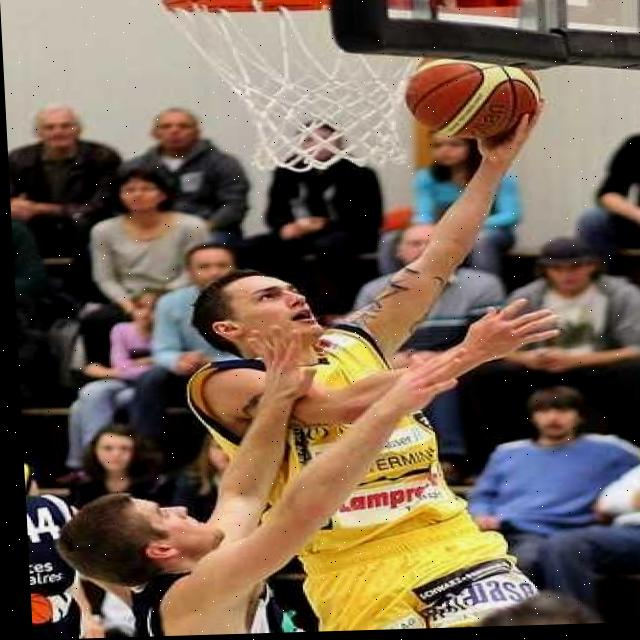basketball: (402, 51, 546, 142)
hoop: (152, 0, 439, 178)
